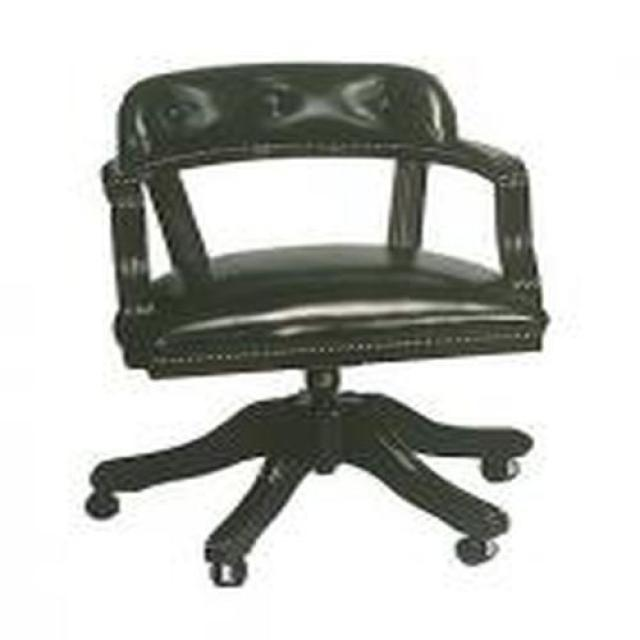swivelchair: (84, 61, 550, 590)
